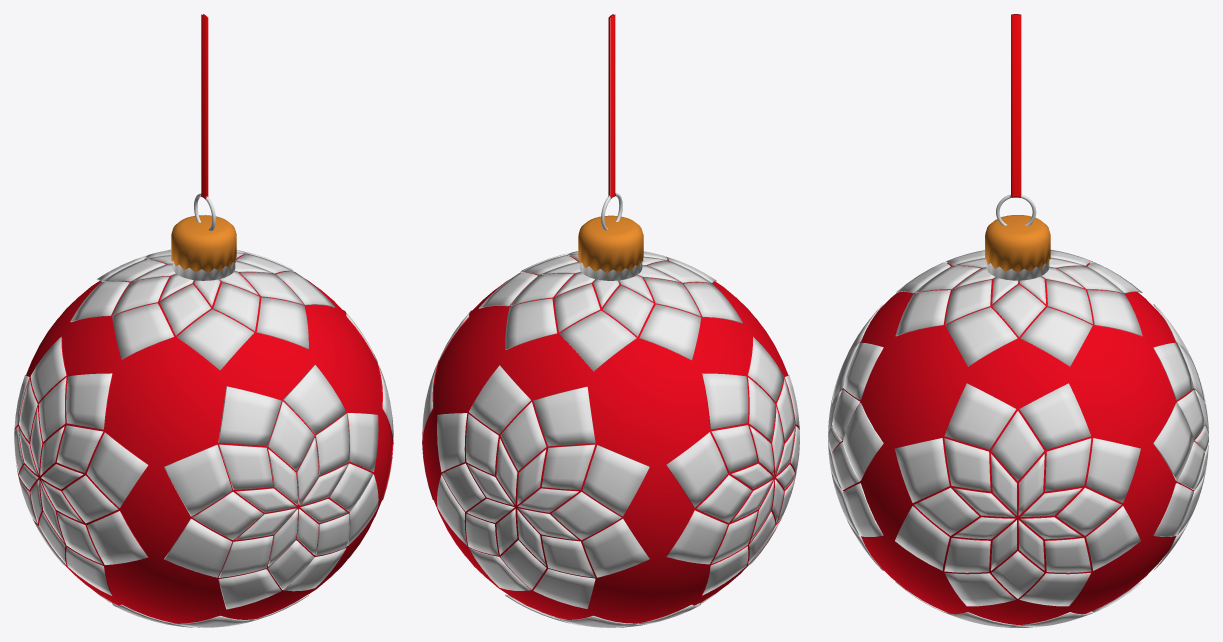
File: ballC.fbx
3 views of the same model, side by side, from view 1: azimuth 30°, elevation 25°; view 2: azimuth 150°, elevation 25°; view 3: azimuth 270°, elevation 25° (orthographic).
Parts seen in each view (by area): view 1: ballC; view 2: ballC; view 3: ballC.
Boxes of the visible parts, <box> form: ballC: <box>14,14,393,627</box>; ballC: <box>422,14,799,627</box>; ballC: <box>828,14,1208,627</box>.
Size of the model in its own units: 0.0956 by 0.1656 by 0.0959.
